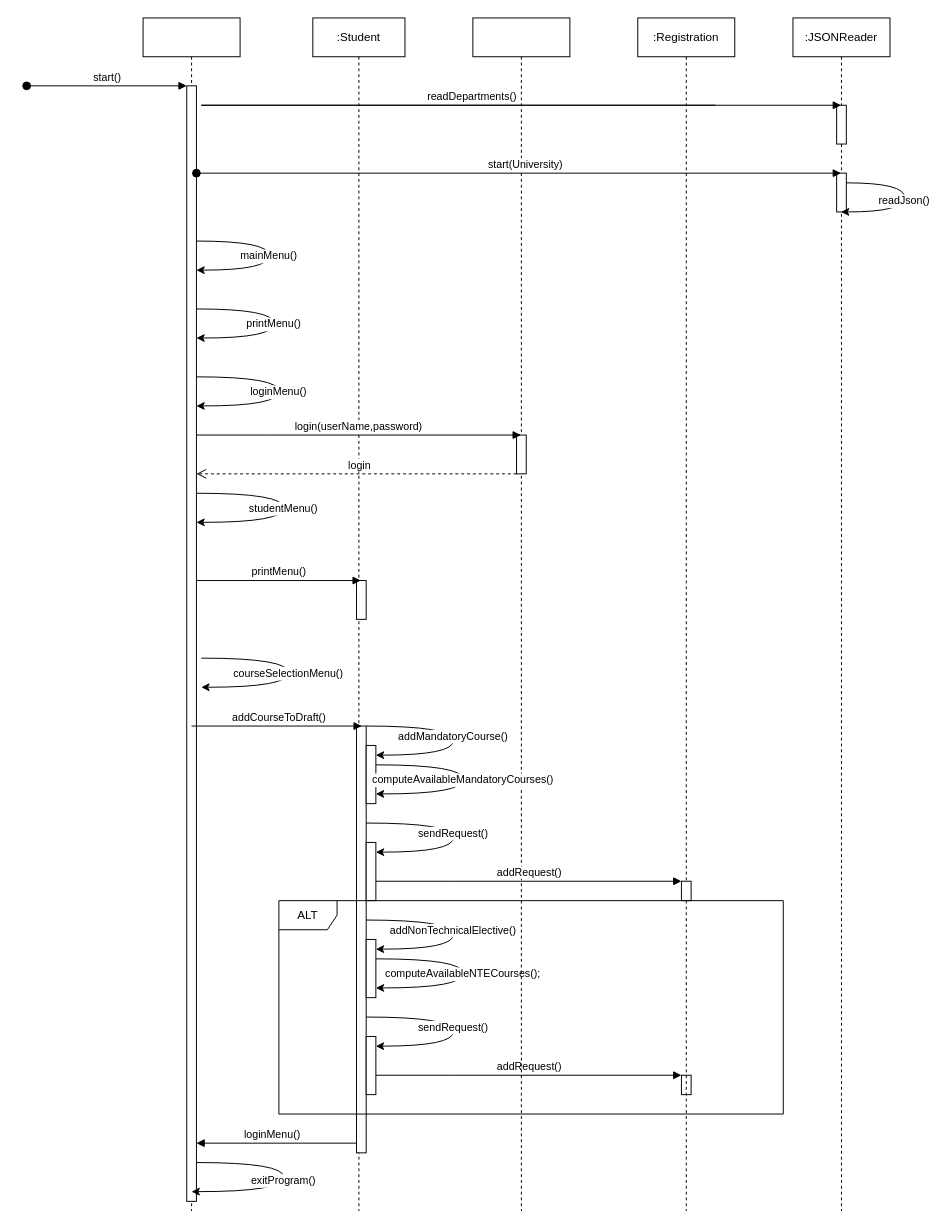
Some shapes in this 948 by 1228 pixel diagram are drawn without their labels. Here are the shapes that lost their labels. From the top down, the box of each, then its label:
(142, 17, 240, 1211): :Course Registration System
(472, 17, 570, 1211): :Person
